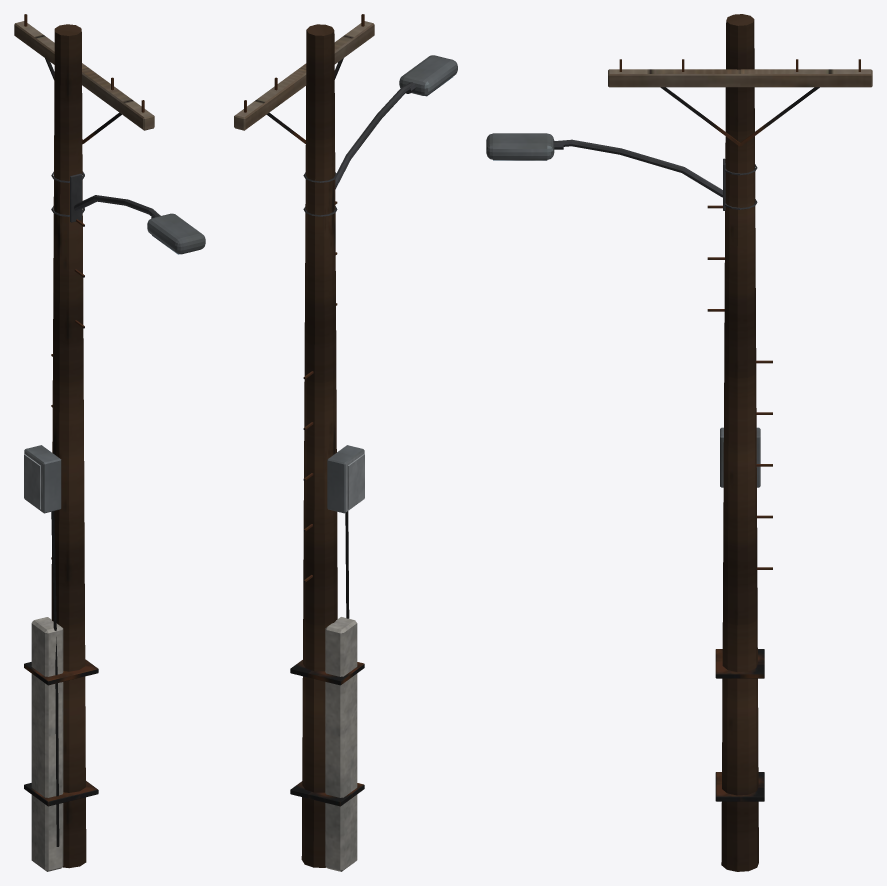
File: p_lamp.glb
3 renders of one model, left to right at view 1: azimuth 30°, elevation 25°; view 2: azimuth 150°, elevation 25°; view 3: azimuth 270°, elevation 25°, orthographic.
Parts seen in each view (by area): view 1: p_lamp; view 2: p_lamp; view 3: p_lamp.
Part boxes in pixels (x1,y1,x2,y2): p_lamp: (14,14,205,871); p_lamp: (234,14,457,871); p_lamp: (486,14,872,871).
Bounding box in the file's own units: 0.505 × 6.86 × 2.85.
1 material, 1 textured.
